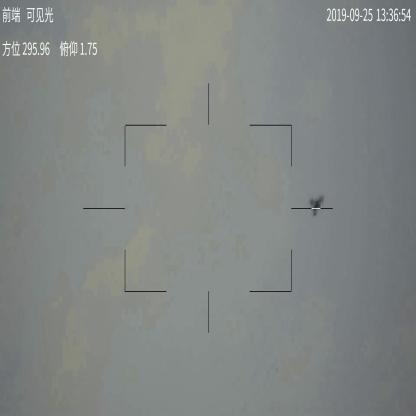uav: (308, 192, 326, 218)
